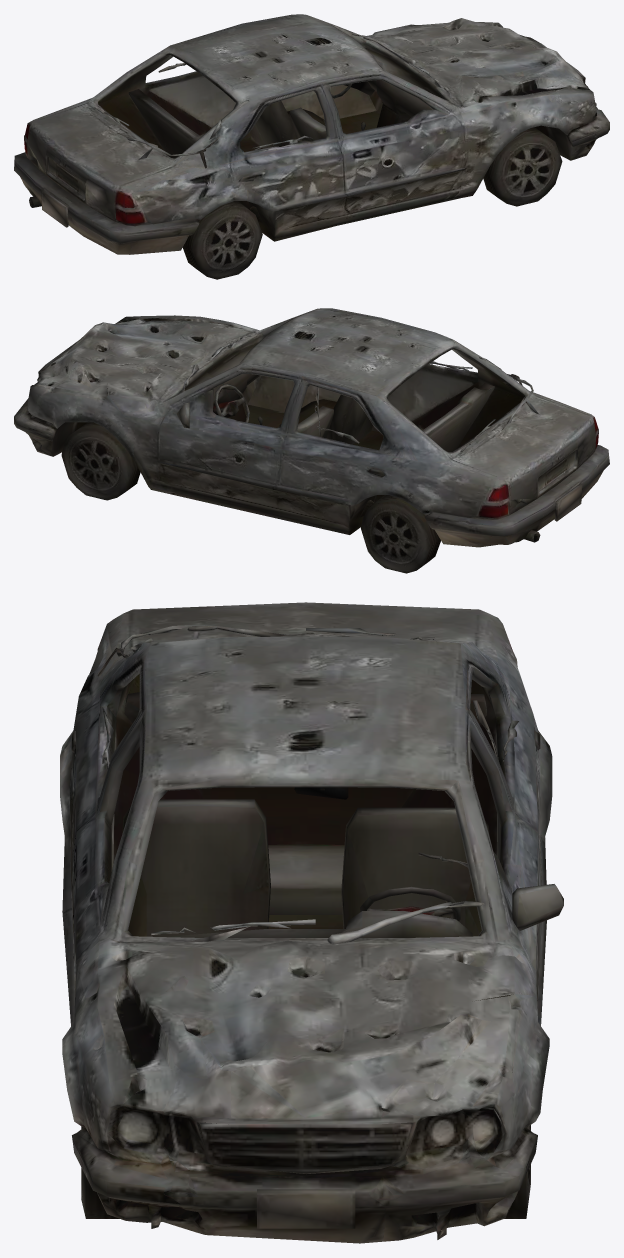
The model's file is damaged_broken_car.glb.
3 renders of one model, top to bottom at view 1: azimuth 30°, elevation 25°; view 2: azimuth 150°, elevation 25°; view 3: azimuth 270°, elevation 25°, orthographic. The views are drawn at different scales.
Visible parts, largest first — view 1: tripo_node_fb8604b2-b569-4aca-aedf-f0e02e97c72f; view 2: tripo_node_fb8604b2-b569-4aca-aedf-f0e02e97c72f; view 3: tripo_node_fb8604b2-b569-4aca-aedf-f0e02e97c72f.
Boxes of the visible parts, bbox=[...] form: tripo_node_fb8604b2-b569-4aca-aedf-f0e02e97c72f: bbox=[14, 14, 609, 279]; tripo_node_fb8604b2-b569-4aca-aedf-f0e02e97c72f: bbox=[14, 308, 609, 573]; tripo_node_fb8604b2-b569-4aca-aedf-f0e02e97c72f: bbox=[60, 602, 563, 1243].
Bounding box in the file's own units: 0.998 × 0.2969 × 0.4199.
Materials: 1 (1 with a texture image).
